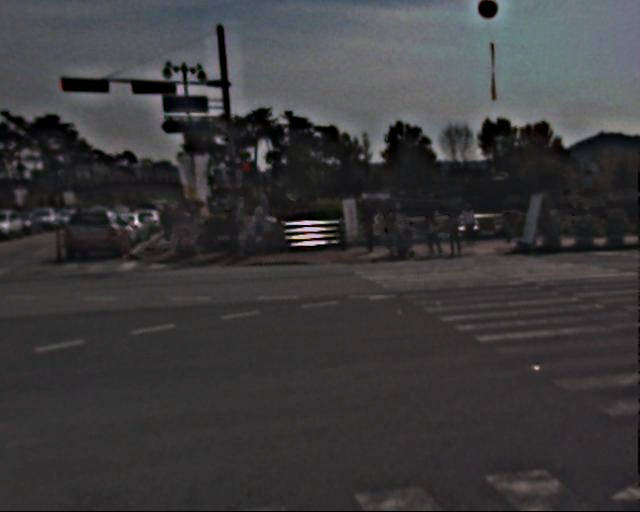person: (158, 202, 198, 243), (384, 201, 407, 258), (246, 204, 267, 256), (366, 204, 386, 253), (452, 205, 471, 252), (466, 197, 485, 243), (427, 208, 445, 253)
